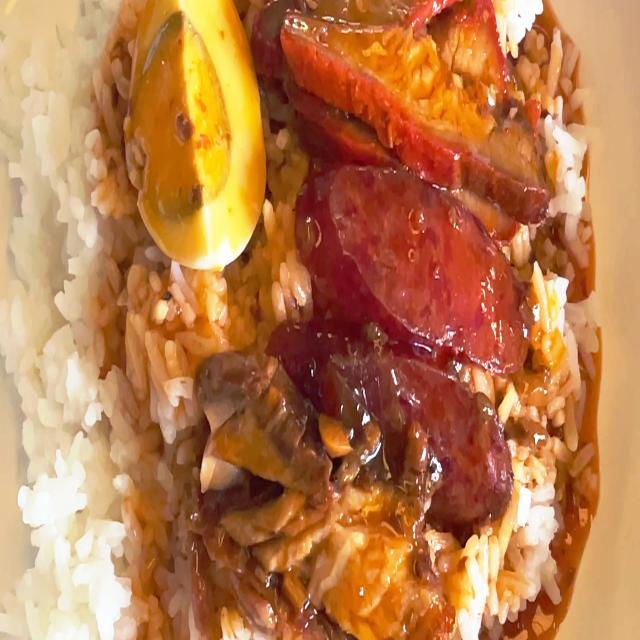boiled_egg: (141, 0, 251, 247)
chainese_sausage: (303, 190, 514, 484)
crispy_pork: (207, 462, 442, 640)
red_pork: (278, 0, 534, 188)
red_pork_and_crispy_pork: (0, 0, 591, 640)
rice: (5, 0, 134, 640)
